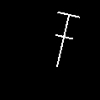double_crochet: (56, 12, 79, 66)
